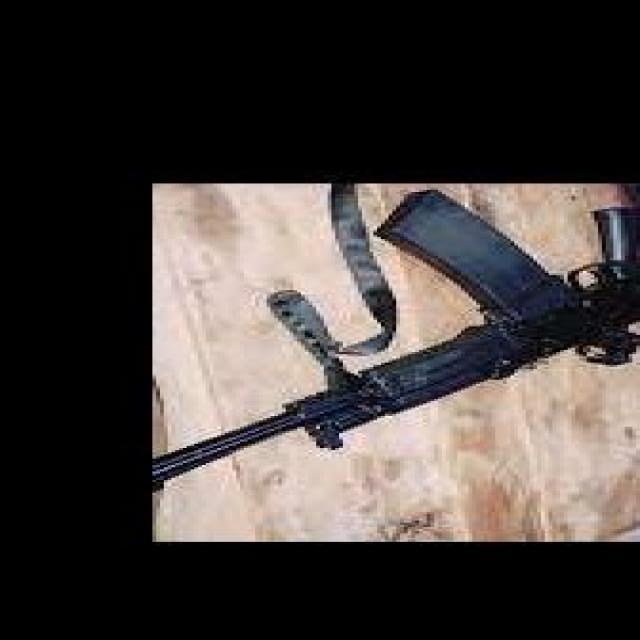weapon: (153, 187, 640, 492)
